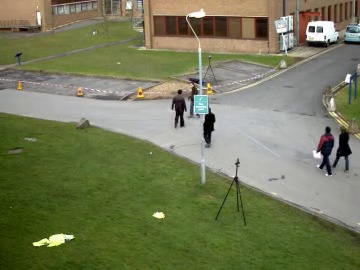person: (202, 106, 219, 148), (171, 91, 187, 129), (202, 108, 216, 147)
